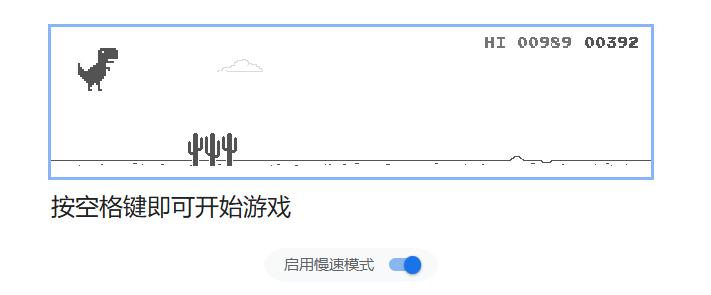cactus: (186, 131, 238, 167)
dino: (76, 47, 118, 92)
